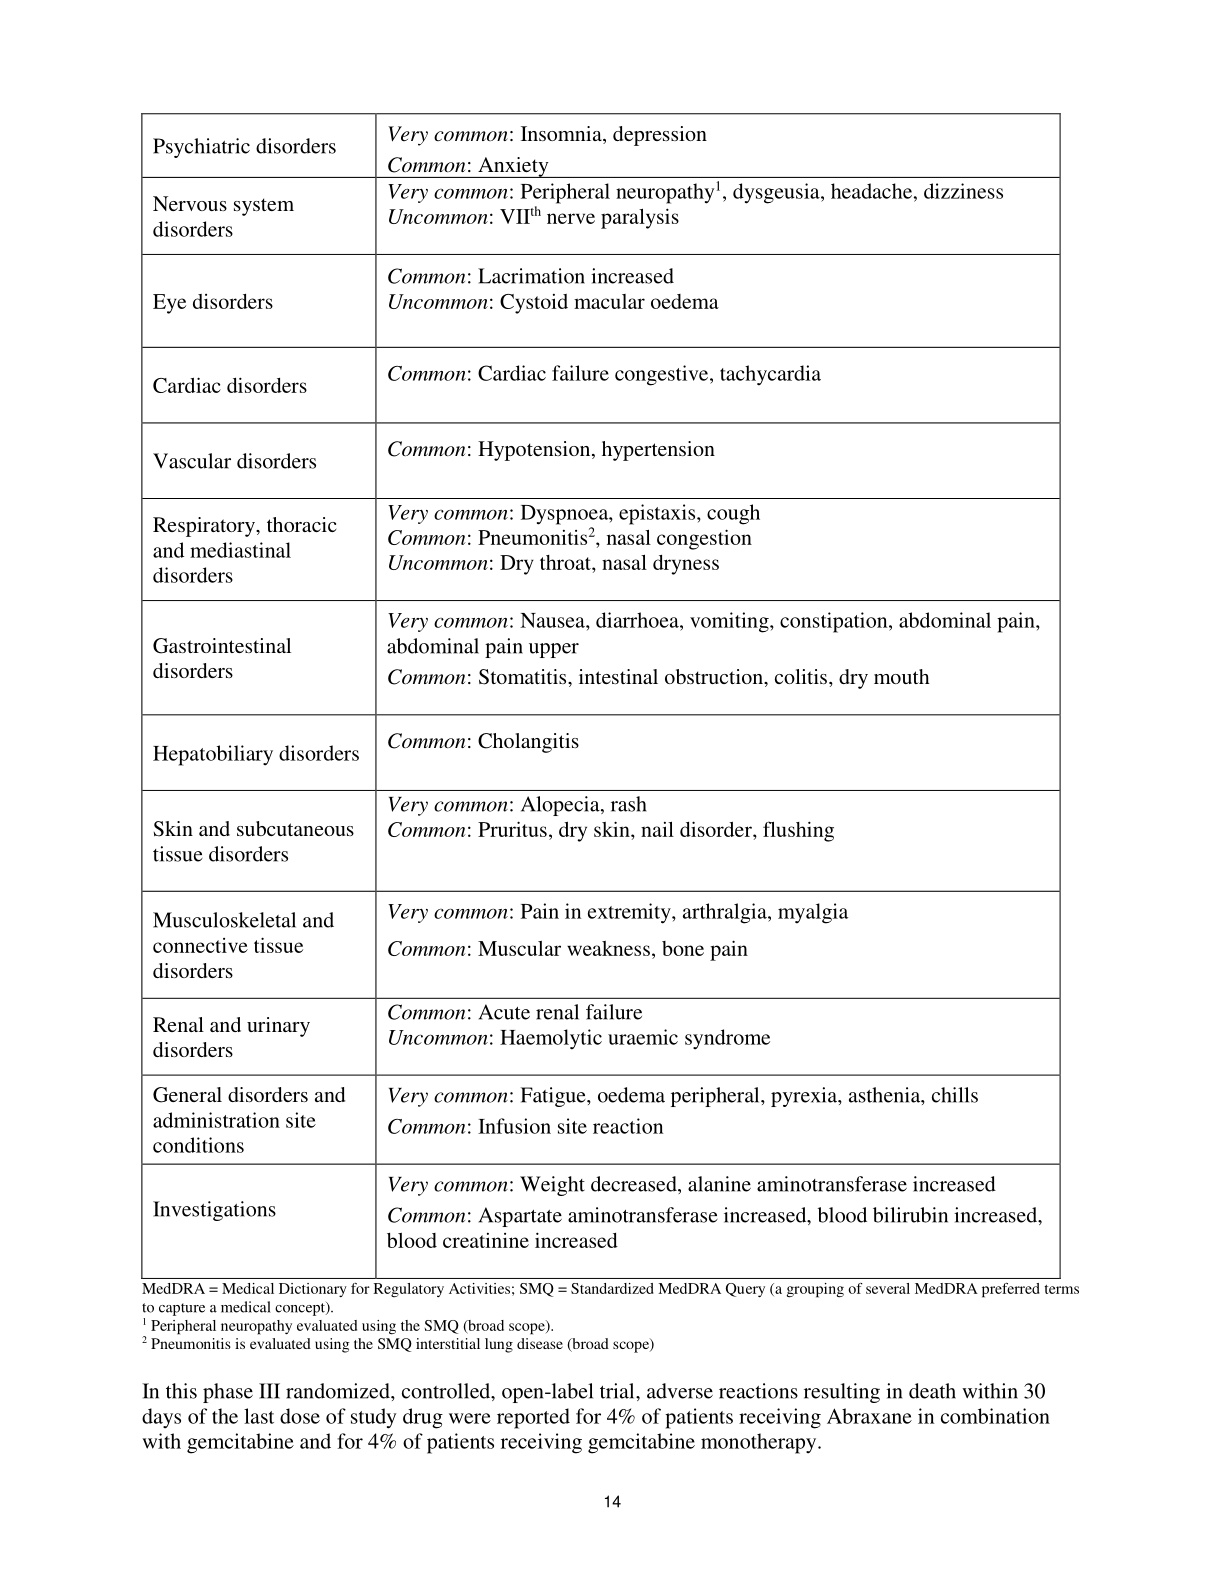full_lined: (140, 112, 1061, 1279)
